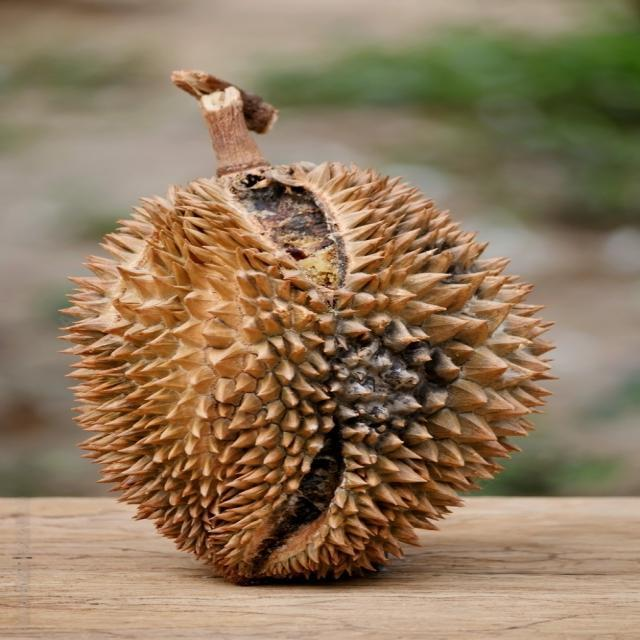defective: (54, 158, 557, 586)
